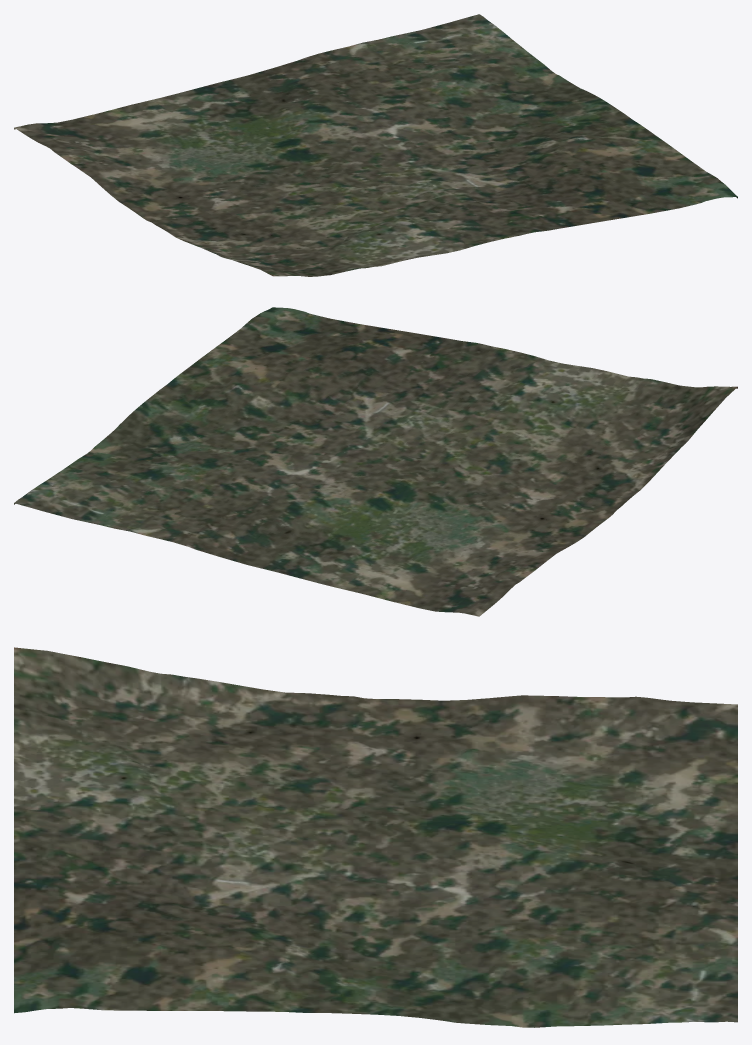
3 renders of one model, top to bottom at view 1: azimuth 30°, elevation 25°; view 2: azimuth 150°, elevation 25°; view 3: azimuth 270°, elevation 25°, orthographic. The views are drawn at different scales.
Bounding box in the file's own units: 250 × 25.13 × 241.
1 material, 1 textured.
